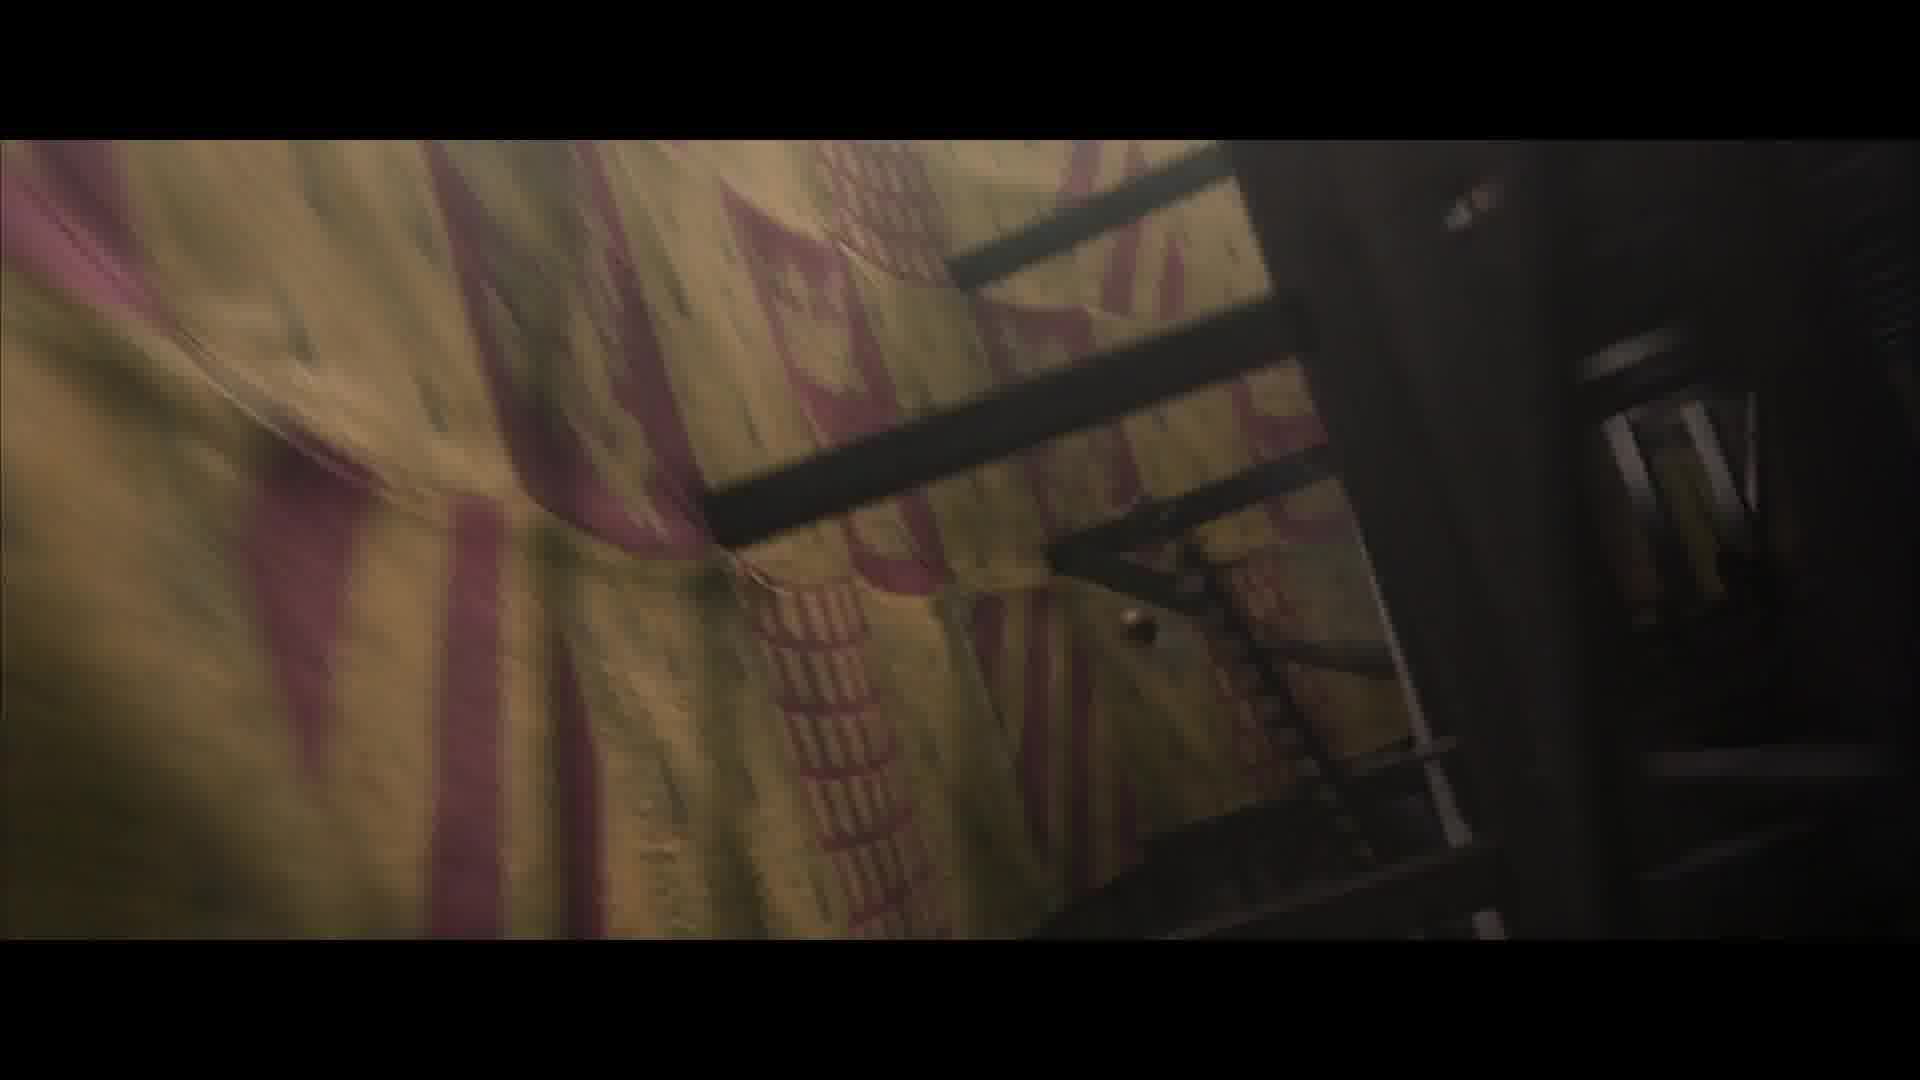bludger: (1116, 607, 1162, 655)
